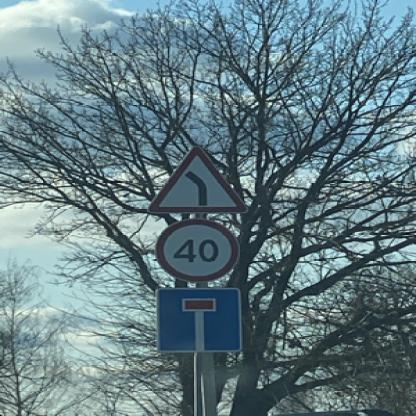speedlimit: (152, 217, 236, 282)
